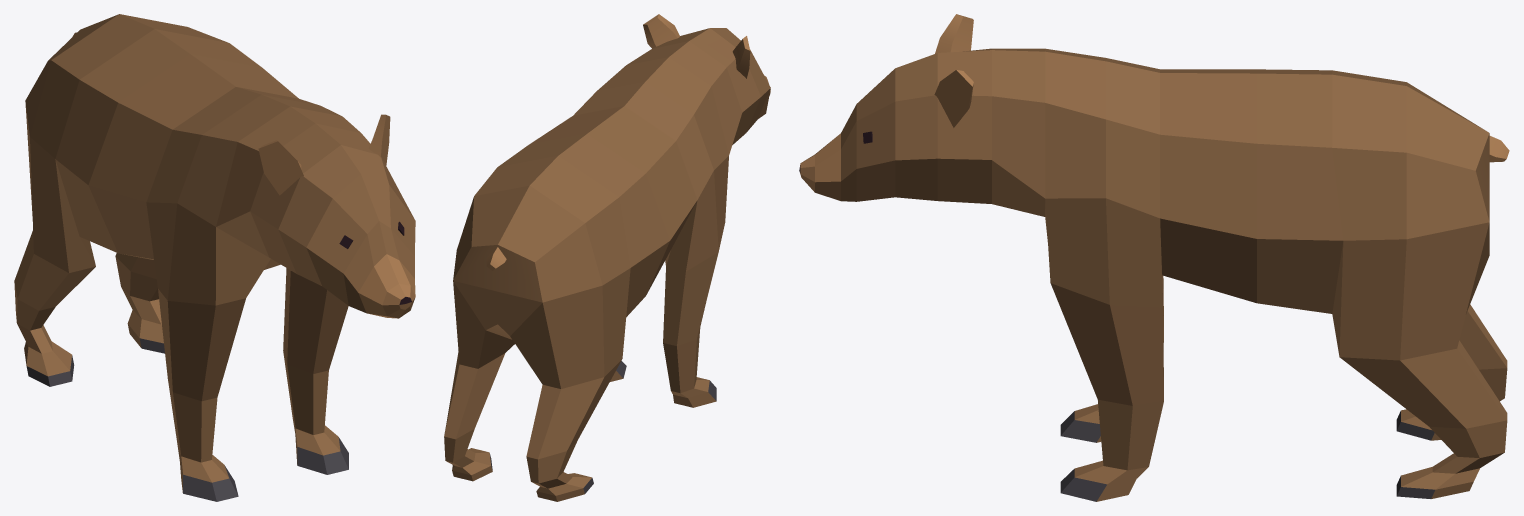
File: Bear.fbx
The picture shows the model from 3 angles, left to right: view 1: azimuth 30°, elevation 25°; view 2: azimuth 150°, elevation 25°; view 3: azimuth 270°, elevation 25°; orthographic projection. The views are drawn at different scales.
Parts seen in each view (by area): view 1: Geo_Bear; view 2: Geo_Bear; view 3: Geo_Bear.
Part boxes in pixels (x1=…): Geo_Bear: x1=14, y1=14, x2=415, y2=501; Geo_Bear: x1=444, y1=14, x2=770, y2=501; Geo_Bear: x1=799, y1=14, x2=1509, y2=501.
Bounding box in the file's own units: 7563 × 13981 × 21575.
Materials: 1 (1 with a texture image).
